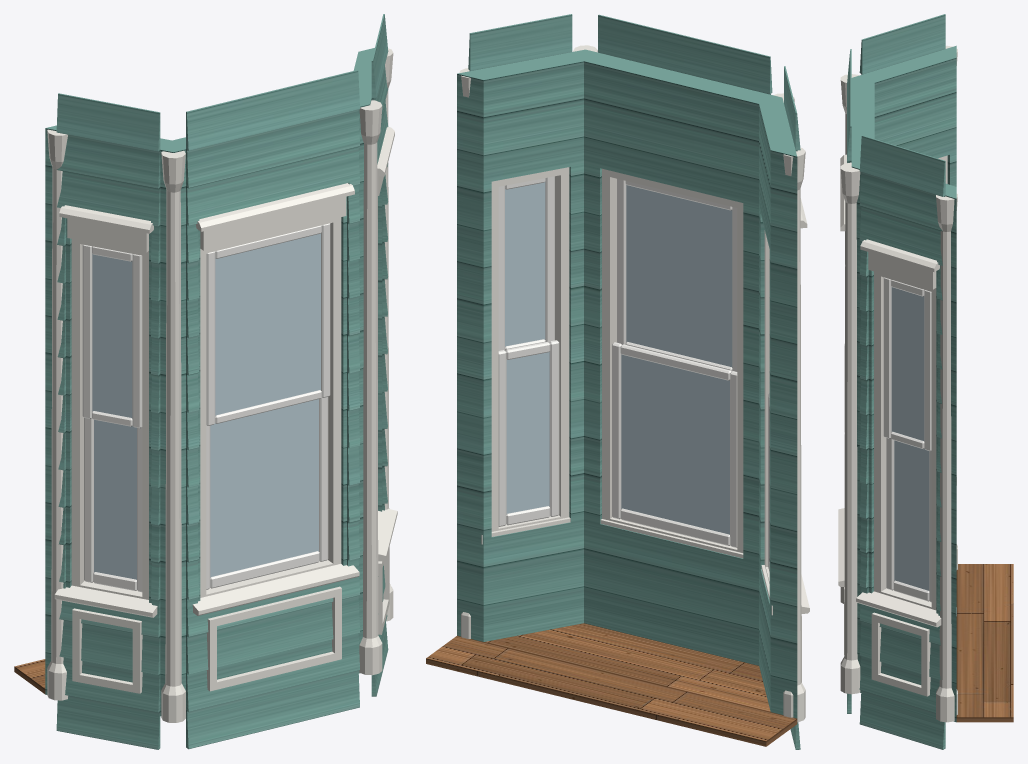
Rendered from bay_g_c.glb.
3 views of the same model, side by side, from view 1: azimuth 30°, elevation 25°; view 2: azimuth 150°, elevation 25°; view 3: azimuth 270°, elevation 25° (orthographic). The views are drawn at different scales.
Visible parts, largest first — view 1: bay_g_c_siding_c, bay_g_c_trim, bay_g_c_glass, bay_g_c_sash, bay_g_c_frame, bay_g_c_floor; view 2: bay_g_c_siding_c, bay_g_c_glass, bay_g_c_floor, bay_g_c_frame, bay_g_c_sash, bay_g_c_trim; view 3: bay_g_c_siding_c, bay_g_c_trim, bay_g_c_glass, bay_g_c_floor, bay_g_c_frame, bay_g_c_sash.
Boxes of the visible parts, left/top/right/bottom form: bay_g_c_siding_c: left=45, top=14, right=388, bottom=749; bay_g_c_trim: left=47, top=48, right=397, bottom=722; bay_g_c_glass: left=92, top=233, right=320, bottom=579; bay_g_c_sash: left=82, top=223, right=330, bottom=592; bay_g_c_frame: left=71, top=196, right=377, bottom=599; bay_g_c_floor: left=14, top=659, right=45, bottom=694; bay_g_c_siding_c: left=457, top=14, right=800, bottom=749; bay_g_c_glass: left=505, top=182, right=732, bottom=534; bay_g_c_floor: left=426, top=623, right=797, bottom=746; bay_g_c_frame: left=491, top=167, right=769, bottom=583; bay_g_c_sash: left=498, top=176, right=769, bottom=571; bay_g_c_trim: left=459, top=45, right=809, bottom=722; bay_g_c_siding_c: left=847, top=14, right=956, bottom=749; bay_g_c_trim: left=838, top=45, right=957, bottom=722; bay_g_c_glass: left=891, top=287, right=929, bottom=590; bay_g_c_floor: left=956, top=564, right=1013, bottom=722; bay_g_c_frame: left=874, top=155, right=947, bottom=610; bay_g_c_sash: left=883, top=277, right=931, bottom=602.
Bounding box in the file's own units: 1.92 × 3.4 × 0.92.
Materials: 6 (2 with a texture image).
